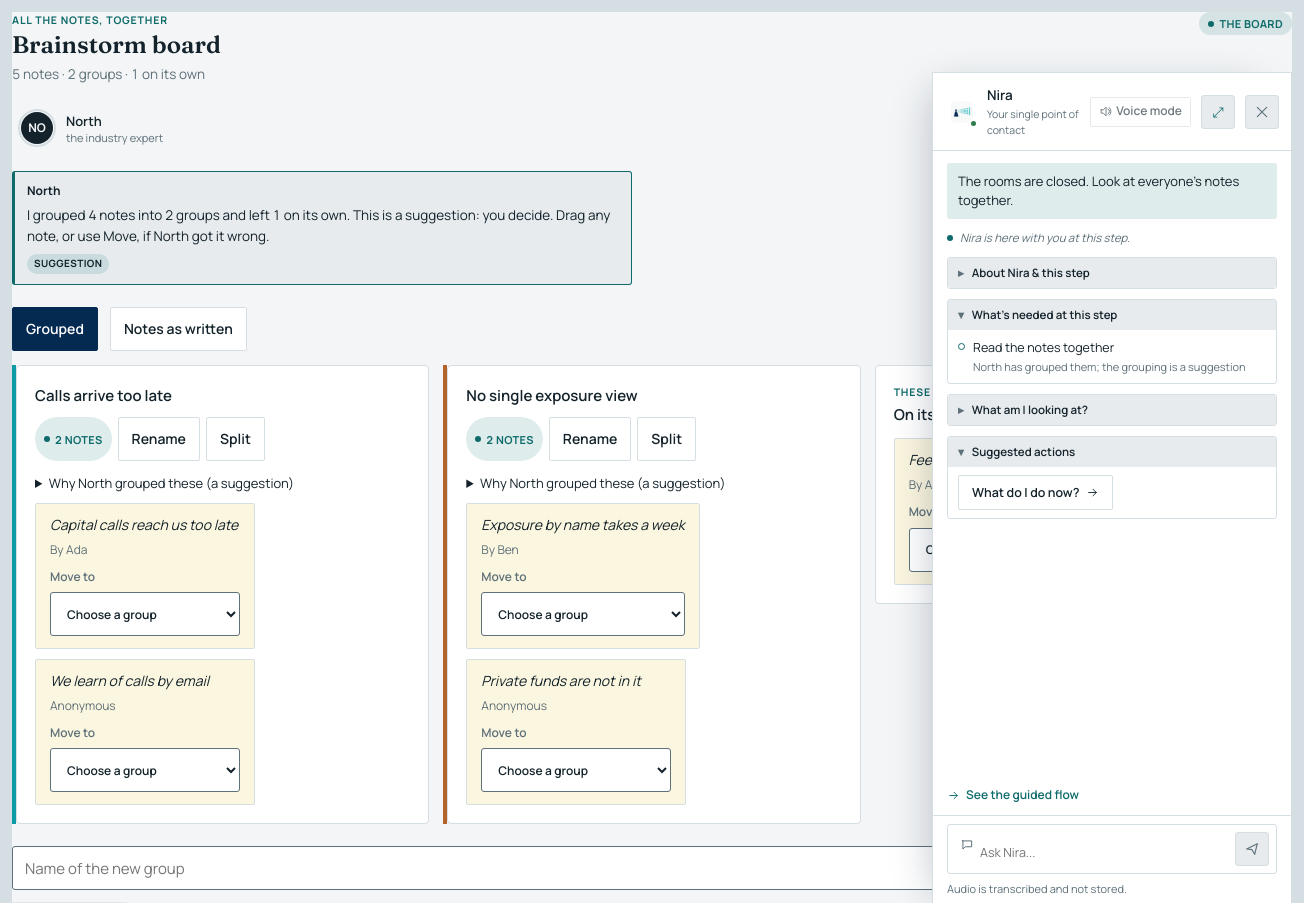
Test: the notes can be shown as written
Click the button "Notes as written" at (178, 329), box [110, 307, 247, 351]
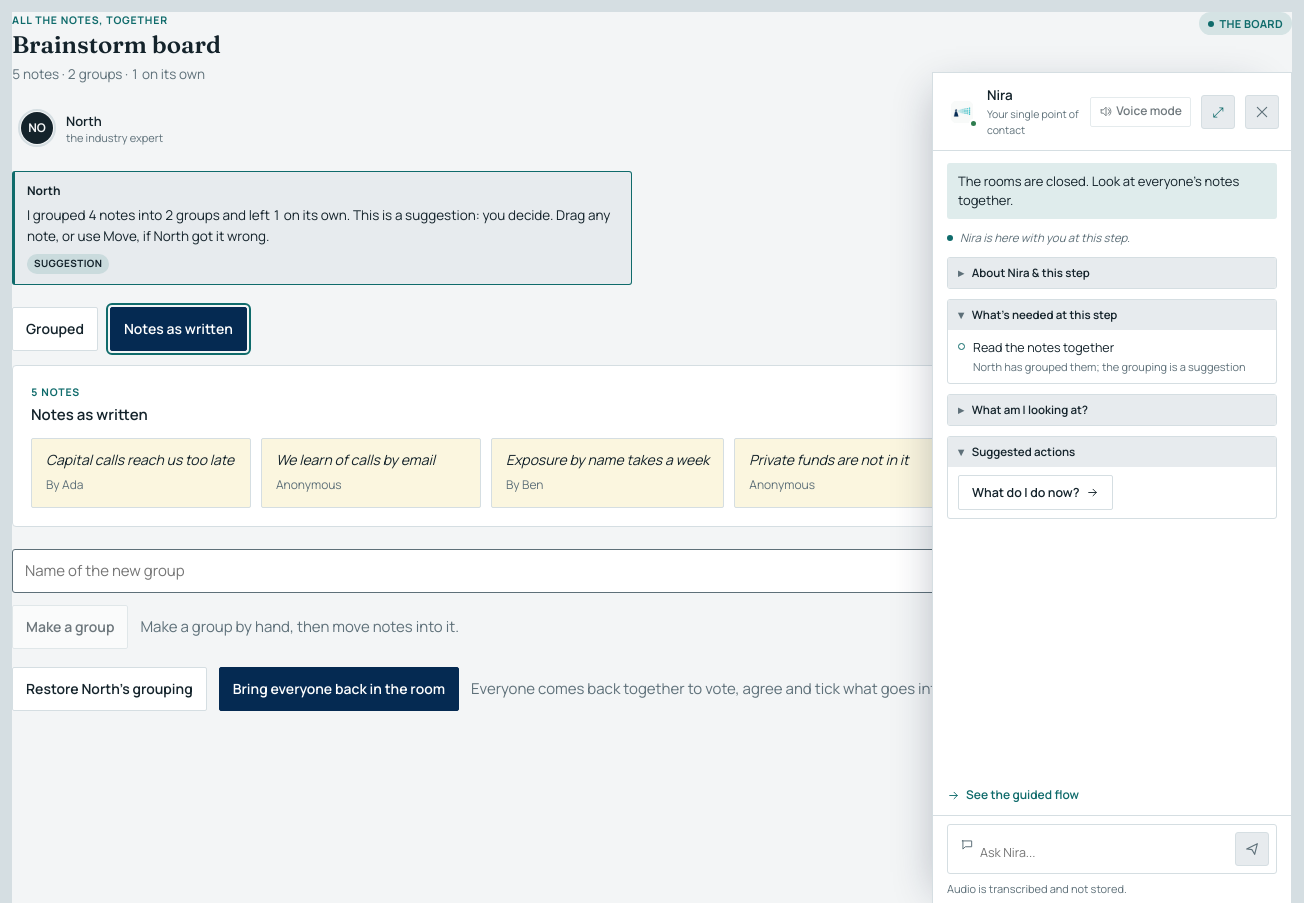
expect the text "Exposure by name takes a week" is shown: met, box [506, 451, 709, 470]
expect the heading "Calls arrive too late" is gone: met
